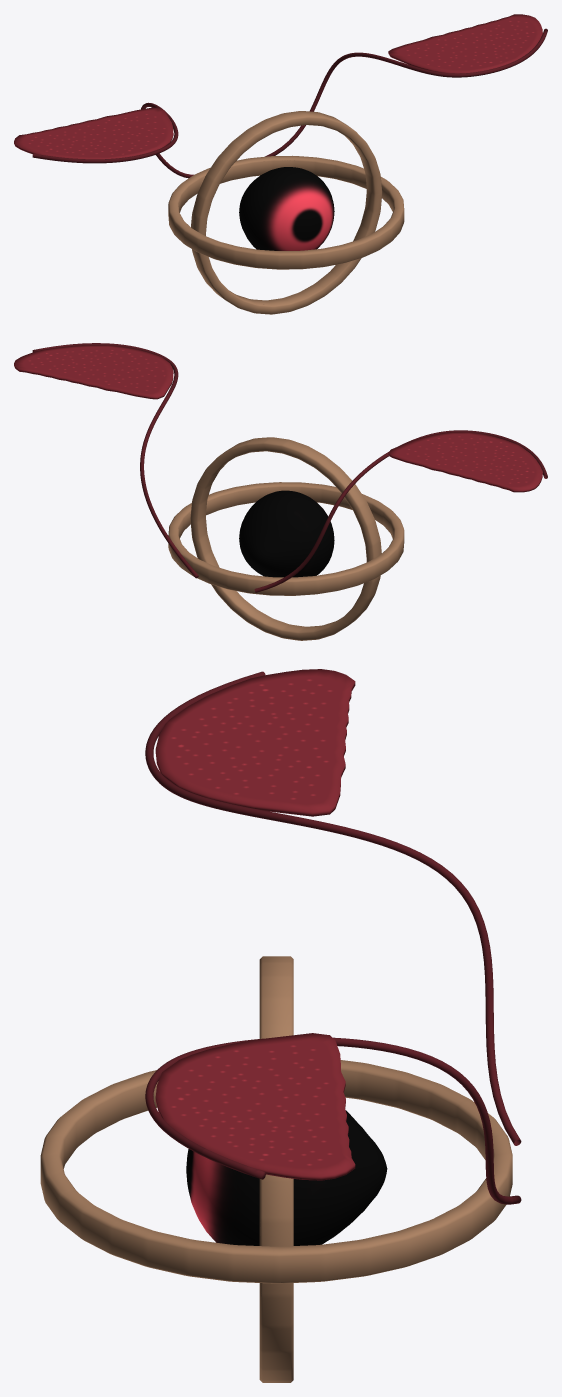
Rendered from Angel.fbx.
The picture shows the model from 3 angles, top to bottom: view 1: azimuth 30°, elevation 25°; view 2: azimuth 150°, elevation 25°; view 3: azimuth 270°, elevation 25°; orthographic projection. The views are drawn at different scales.
Visible parts, largest first — view 1: Angel; view 2: Angel; view 3: Angel.
Boxes of the visible parts, x1,y1,x2,y2 form: Angel: (14, 14, 547, 314); Angel: (14, 343, 547, 640); Angel: (40, 669, 521, 1382).
Size of the model in its own units: 1235 by 503 by 495.
